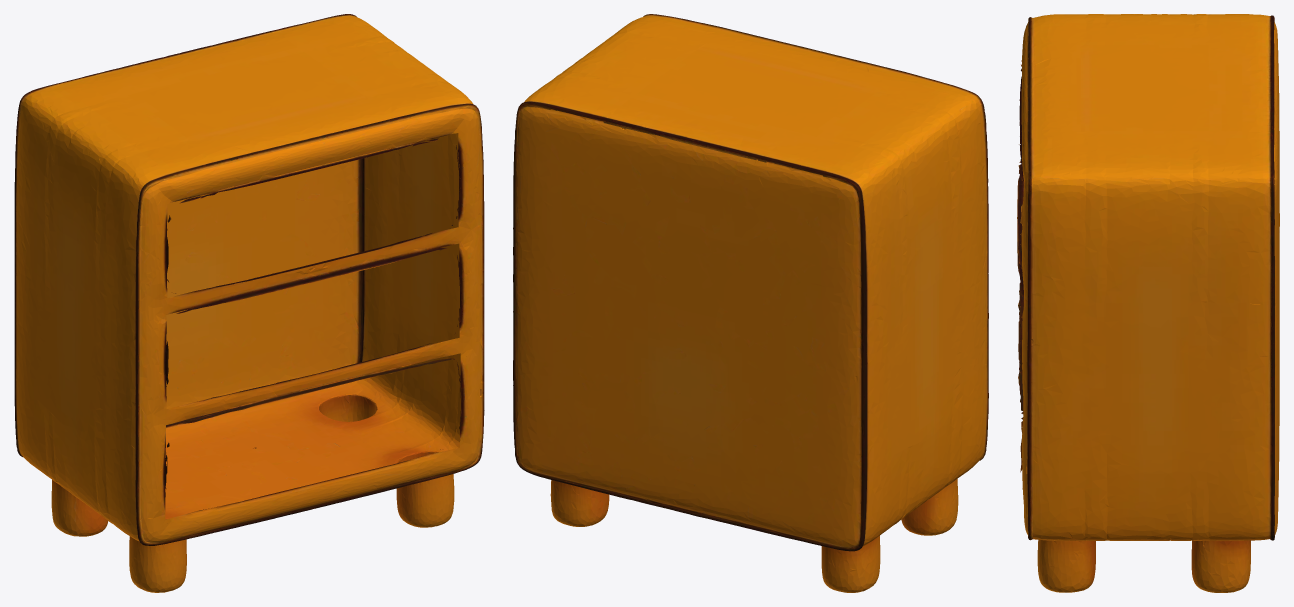
The model's file is body.glb.
3 renders of one model, left to right at view 1: azimuth 30°, elevation 25°; view 2: azimuth 150°, elevation 25°; view 3: azimuth 270°, elevation 25°, orthographic.
Visible parts, largest first — view 1: source_surface_0; view 2: source_surface_0; view 3: source_surface_0.
Boxes of the visible parts, bbox=[...] form: source_surface_0: bbox=[14, 14, 484, 592]; source_surface_0: bbox=[513, 14, 988, 592]; source_surface_0: bbox=[1017, 14, 1279, 592].
Bounding box in the file's own units: 0.477 × 0.55 × 0.3044.
Materials: 1 (1 with a texture image).
